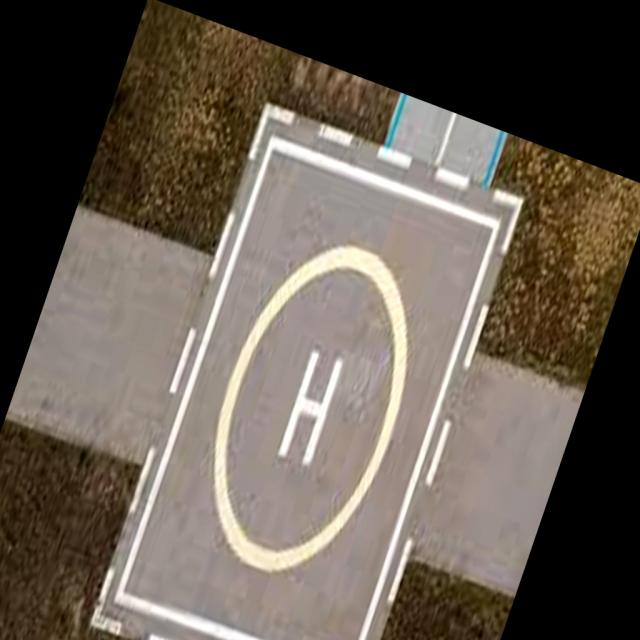helipad: (208, 242, 414, 578)
